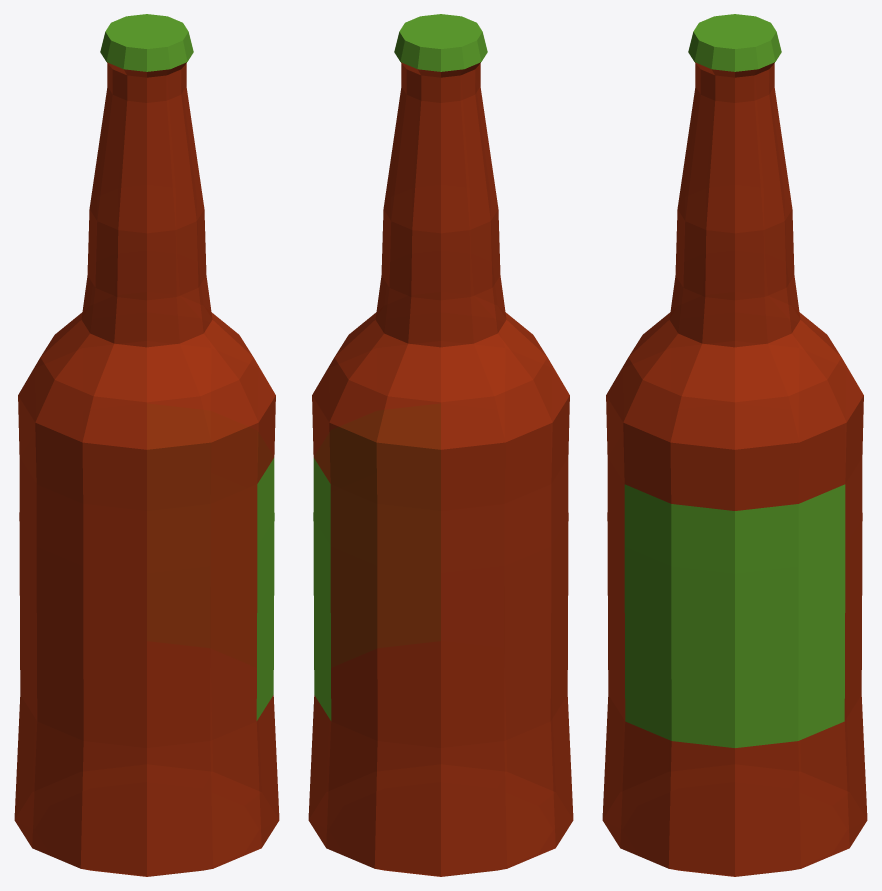
Rendered from beerBottle.obj.
3 renders of one model, left to right at view 1: azimuth 30°, elevation 25°; view 2: azimuth 150°, elevation 25°; view 3: azimuth 270°, elevation 25°, orthographic.
Visible parts, largest first — view 1: Cylinder; view 2: Cylinder; view 3: Cylinder.
Boxes of the visible parts, x1,y1,x2,y2 form: Cylinder: [14, 14, 279, 876]; Cylinder: [308, 14, 573, 876]; Cylinder: [602, 14, 867, 876].
Bounding box in the file's own units: 1.84 × 6.12 × 1.84.
